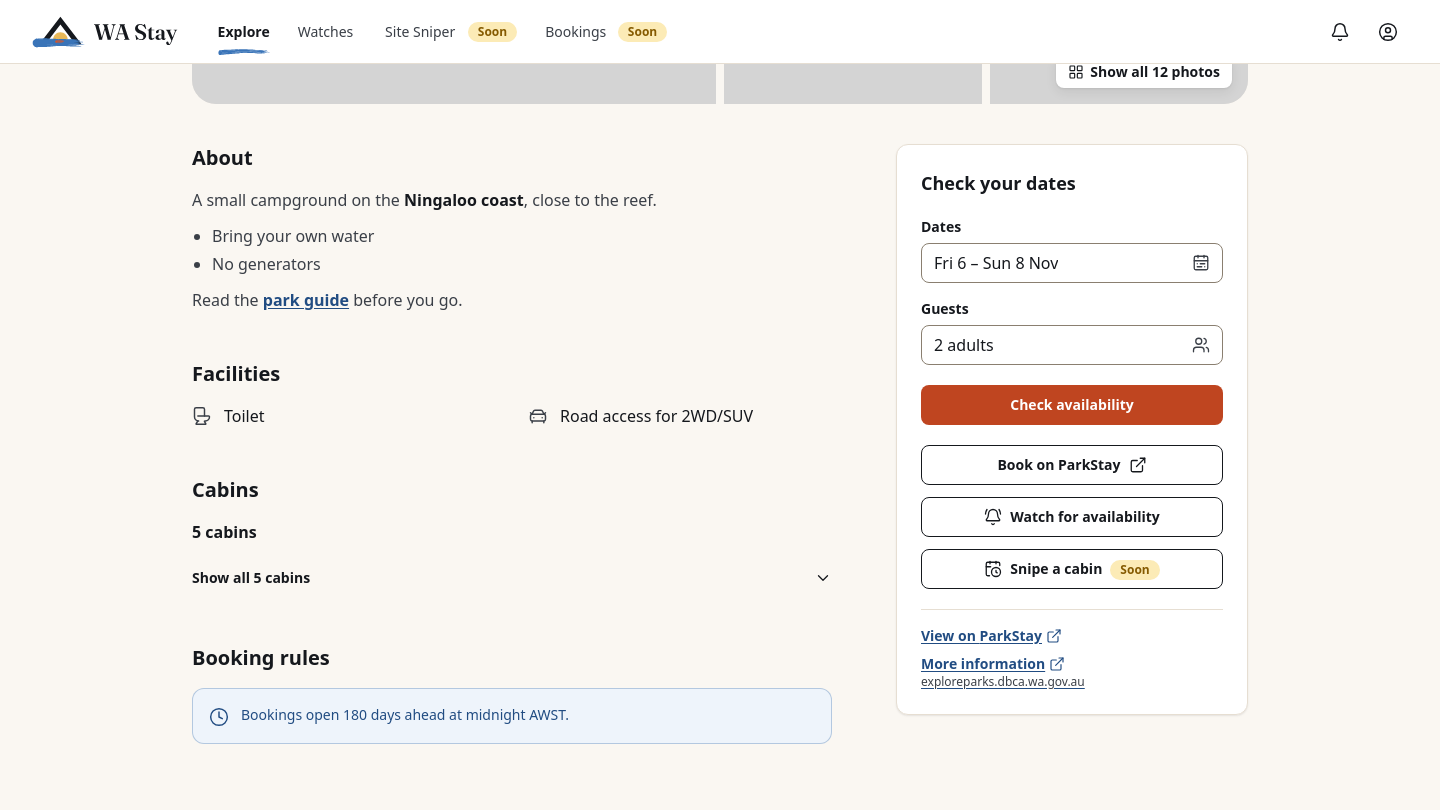
PlaceDetailPage: unit nouns › a place of cabins: its section, its count, the check and "Snipe a cabin"
The width and height of the screenshot is (1440, 810).
(page scrolled)
Expected: the heading "About" is shown, x1=192 y1=144 x2=253 y2=171
Expected: the text "5 cabins" is shown, x1=192 y1=521 x2=257 y2=543
Click the button "Check availability" at (1072, 405), box x1=921 y1=385 x2=1223 y2=425
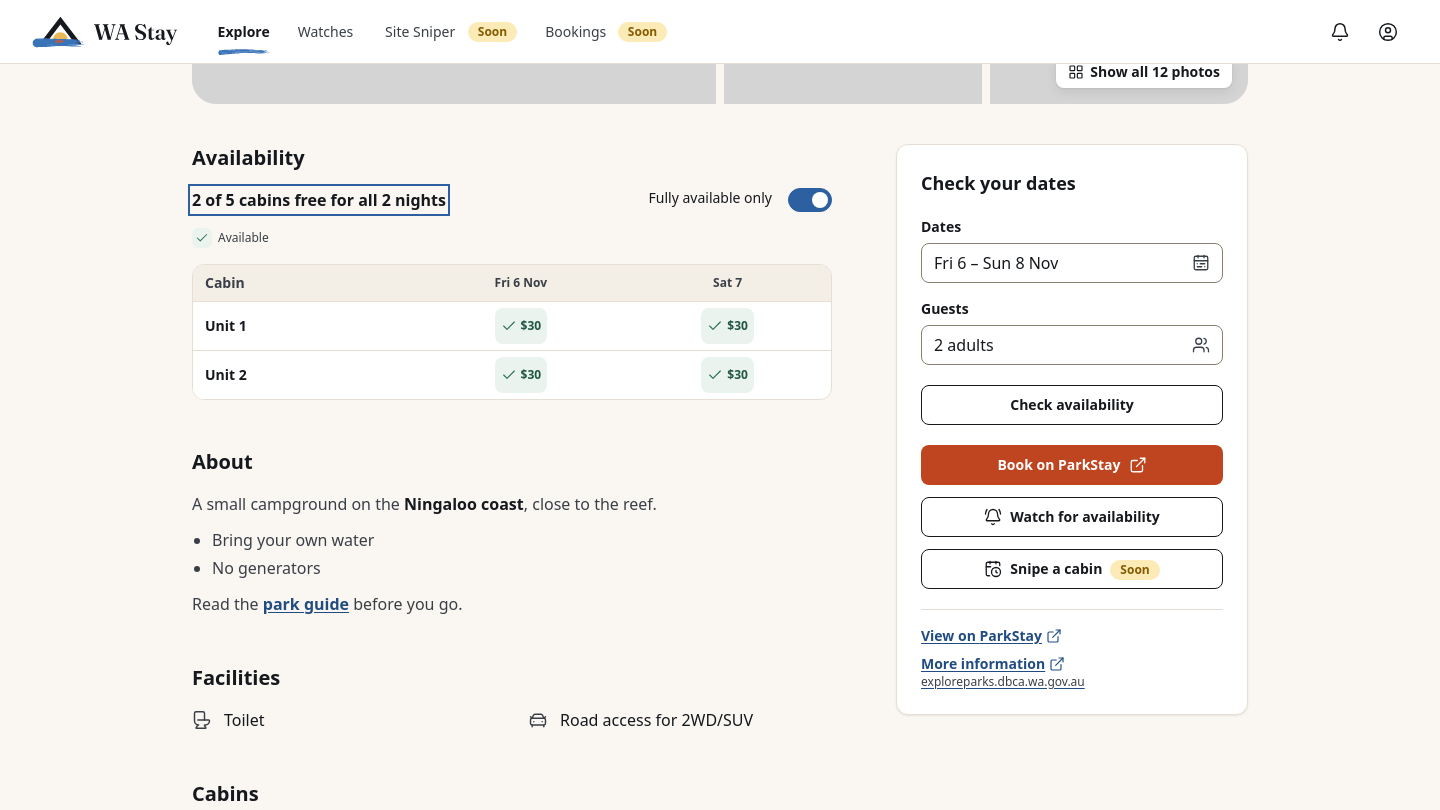
Result: the text "2 of 5 cabins free for all 2 nights" is shown at x1=192 y1=188 x2=446 y2=212
